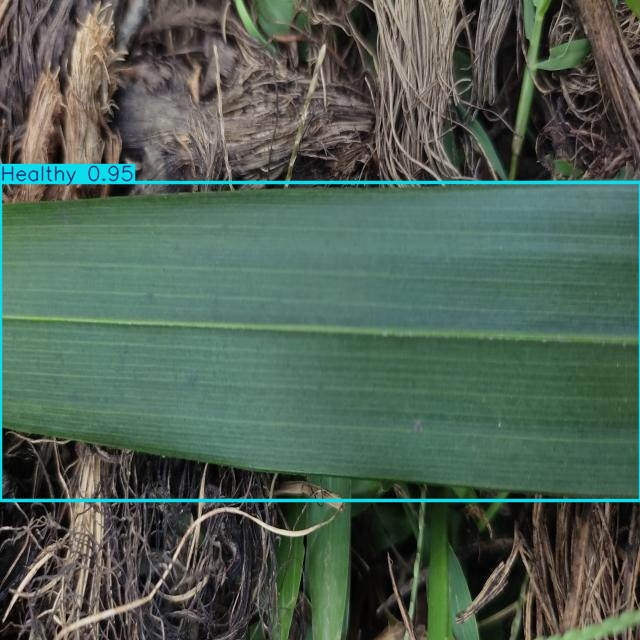Healthy: (0, 182, 640, 500)
